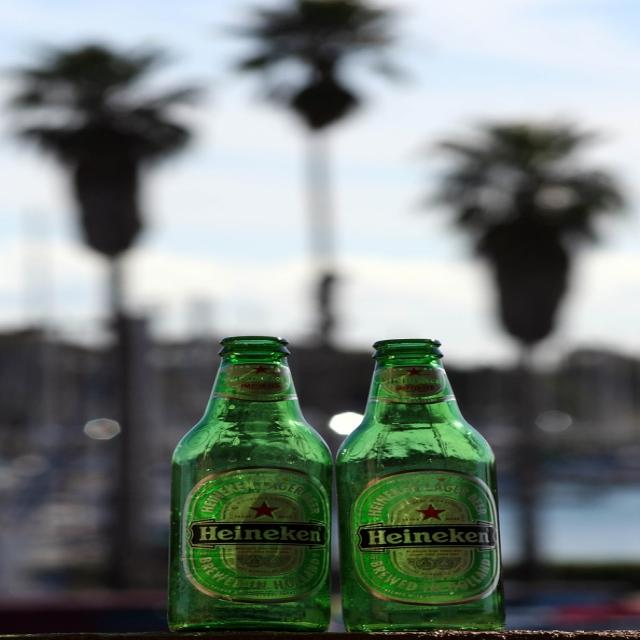heineken: (351, 470, 501, 606), (183, 467, 332, 603)
